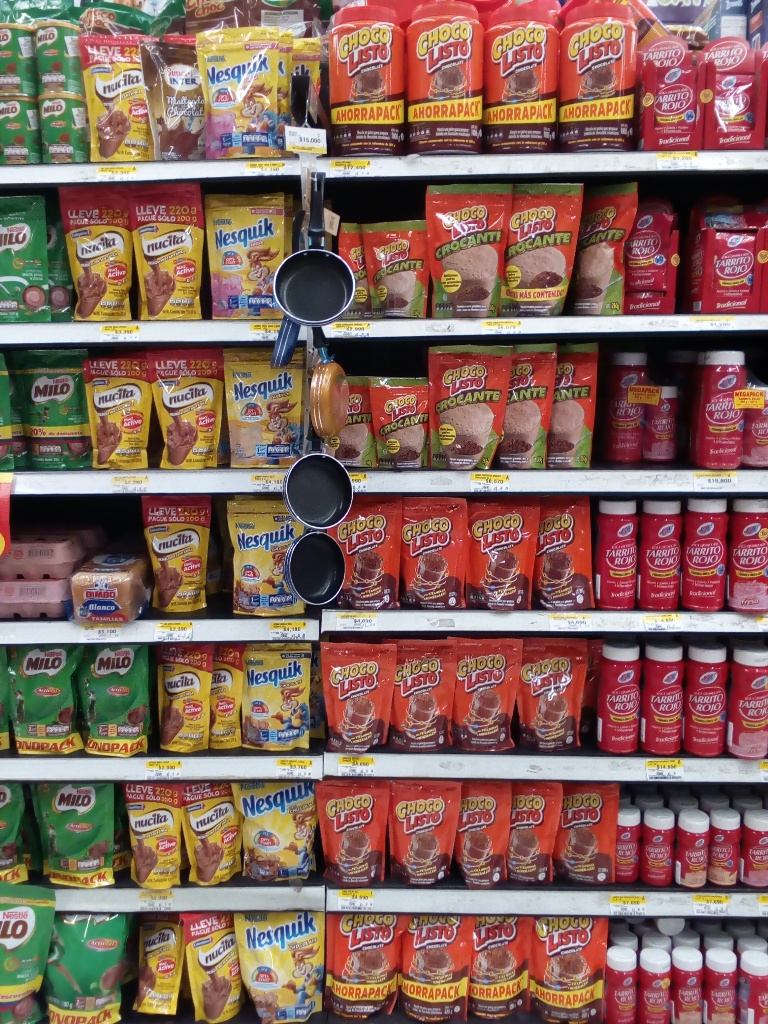COL0170102DYP10000: (338, 220, 379, 321)
COL0170102DYP25000: (577, 182, 636, 317)
COL0170103DYP20000: (533, 494, 599, 611)
COL0170103DYP40000: (532, 914, 607, 1021)
COL0170103TRR00100: (558, 3, 642, 153)
COL0170203DYP25000: (13, 347, 95, 470)
COL0170203DYP50000: (30, 780, 124, 887)
COL0170203LAT20000: (35, 92, 92, 162)
COL0170303DYP20000: (224, 500, 294, 615)
COL0170305DYP20000: (194, 29, 284, 161)
COL0170306DYP20000: (222, 348, 298, 471)
